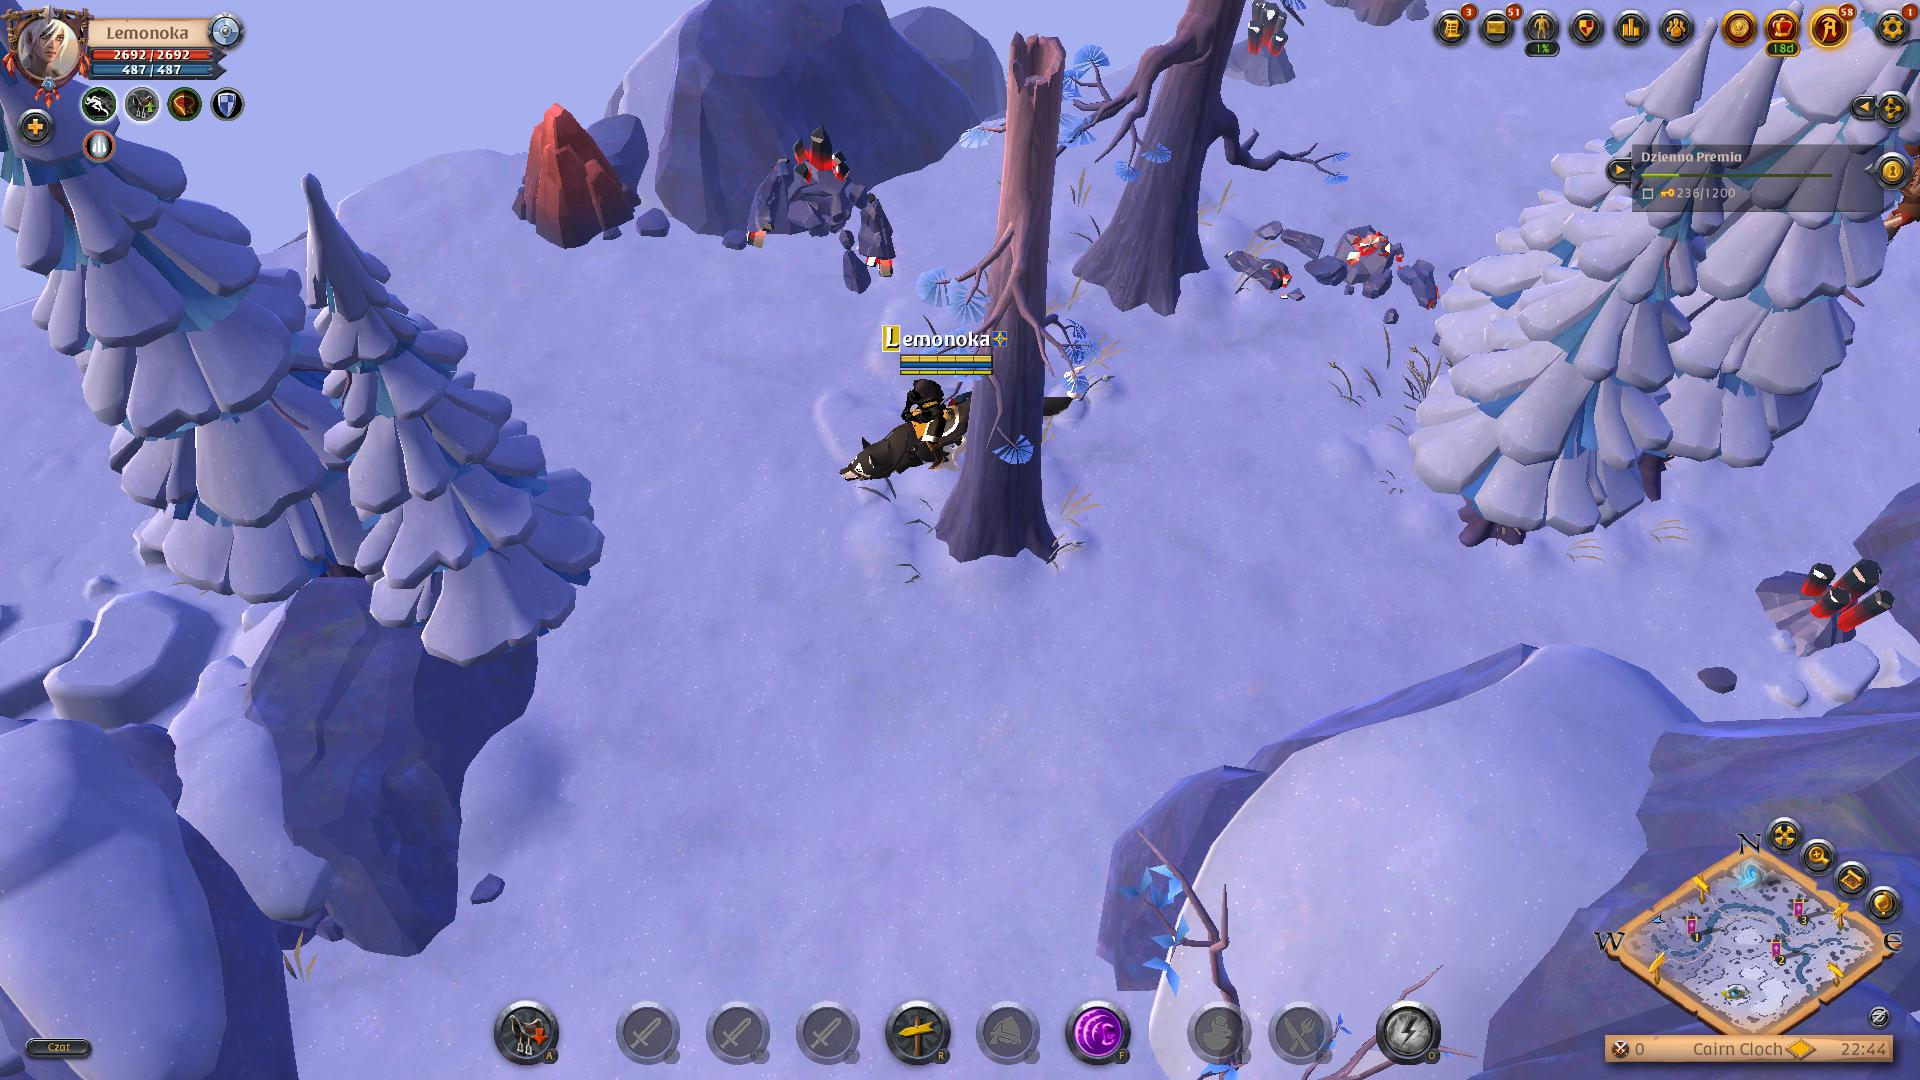fiber tier 5: (506, 104, 637, 253)
ore tier 5: (1760, 553, 1891, 658), (1232, 4, 1296, 88)
